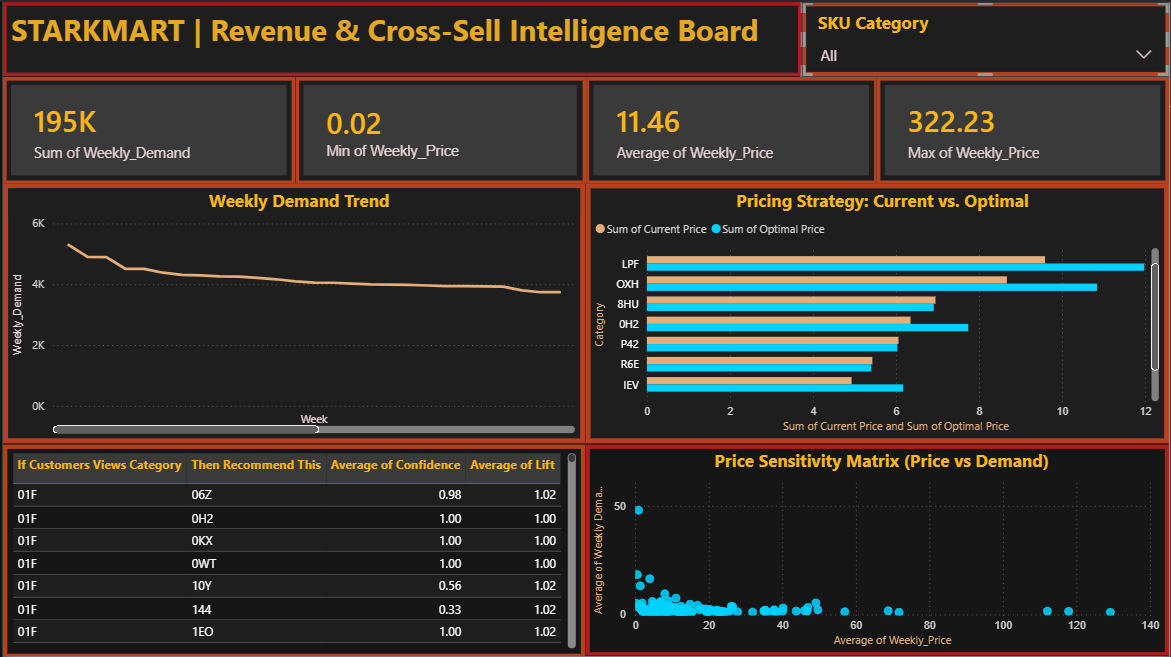

The dashboard page shown, as its layout file describes it:
{"tool":"powerbi","page":{"name":"Page 1","canvas":[1280,720],"ordinal":0},"visuals":[{"type":"textbox","box":[0,0,876.6,81.7],"z":0},{"type":"slicer","fields":{"Values":["cleaned_dataset.SKU_Category"]},"box":[876.6,0,403.7,81.7],"z":1000},{"type":"cardVisual","fields":{"Data":["Sum(cleaned_dataset.Weekly_Demand)"]},"box":[0,81.7,320.5,117.8],"z":2000},{"type":"cardVisual","fields":{"Data":["Avg(cleaned_dataset.Weekly_Price)"]},"box":[639.4,81.7,320.5,117.8],"z":3000},{"type":"cardVisual","fields":{"Data":["Max(cleaned_dataset.Weekly_Price)"]},"box":[959.8,81.7,320.5,117.8],"z":4000},{"type":"cardVisual","fields":{"Data":["Min(cleaned_dataset.Weekly_Price)"]},"box":[320.5,81.7,318.9,117.8],"z":5000},{"type":"lineChart","title":"Weekly Demand Trend","fields":{"Category":["cleaned_dataset.Year_Week"],"Y":["Sum(cleaned_dataset.Weekly_Demand)"]},"box":[0,199.5,639.4,285.9],"z":5001},{"type":"clusteredBarChart","title":"Pricing Strategy: Current vs. Optimal","fields":{"Category":["starkmart_pricing_optimization.Category"],"Y":["Sum(starkmart_pricing_optimization.Current Price)","Sum(starkmart_pricing_optimization.Optimal Price)"]},"box":[639.4,199.5,640.9,285.9],"z":5002},{"type":"tableEx","fields":{"Values":["starkmart_recommendation_rules.antecedents","starkmart_recommendation_rules.consequents","Avg(starkmart_recommendation_rules.confidence)","Avg(starkmart_recommendation_rules.lift)"]},"box":[0,485.4,639.4,234.1],"z":5003},{"type":"scatterChart","title":"Price Sensitivity Matrix (Price vs Demand)","fields":{"X":["Avg(cleaned_dataset.Weekly_Price)"],"Y":["Avg(cleaned_dataset.Weekly_Demand)"],"Category":["cleaned_dataset.SKU_Category"]},"box":[639,486,641,233],"z":5004}]}

Visuals, with their boxes in screenshot pixels (x1, y1, x2, y2), scaled from the page's 1280x720 canvas onto the 1171x657 screenshot:
textbox: {"left": 0, "top": 0, "right": 802, "bottom": 75}
slicer - cleaned_dataset.SKU_Category: {"left": 802, "top": 0, "right": 1170, "bottom": 75}
cardVisual - Sum(cleaned_dataset.Weekly_Demand): {"left": 0, "top": 75, "right": 293, "bottom": 182}
cardVisual - Avg(cleaned_dataset.Weekly_Price): {"left": 585, "top": 75, "right": 878, "bottom": 182}
cardVisual - Max(cleaned_dataset.Weekly_Price): {"left": 878, "top": 75, "right": 1170, "bottom": 182}
cardVisual - Min(cleaned_dataset.Weekly_Price): {"left": 293, "top": 75, "right": 585, "bottom": 182}
"Weekly Demand Trend" lineChart: {"left": 0, "top": 182, "right": 585, "bottom": 443}
"Pricing Strategy: Current vs. Optimal" clusteredBarChart: {"left": 585, "top": 182, "right": 1170, "bottom": 443}
tableEx - starkmart_recommendation_rules.antecedents x starkmart_recommendation_rules.consequents: {"left": 0, "top": 443, "right": 585, "bottom": 656}
"Price Sensitivity Matrix (Price vs Demand)" scatterChart: {"left": 585, "top": 443, "right": 1170, "bottom": 656}
